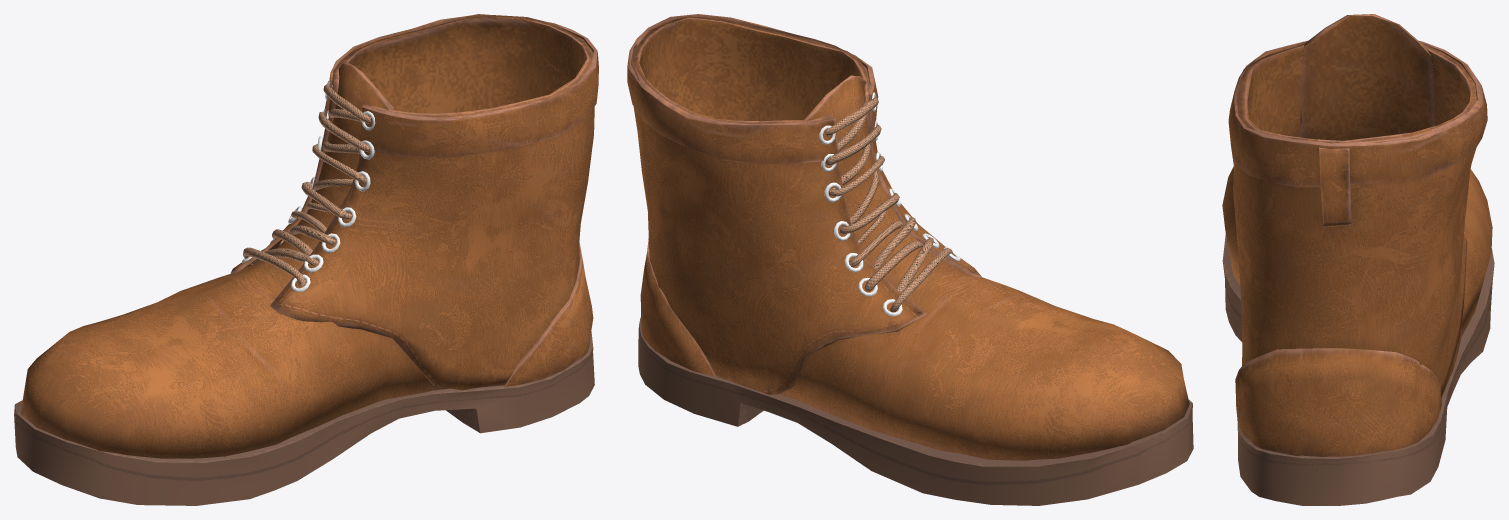
File: SM_Shoes_B2.fbx
3 views of the same model, side by side, from view 1: azimuth 30°, elevation 25°; view 2: azimuth 150°, elevation 25°; view 3: azimuth 270°, elevation 25° (orthographic). The views are drawn at different scales.
Visible parts, largest first — view 1: SM_Shoes_B2; view 2: SM_Shoes_B2; view 3: SM_Shoes_B2.
Boxes of the visible parts, <box> form: SM_Shoes_B2: <box>14,14,598,505</box>; SM_Shoes_B2: <box>627,14,1193,505</box>; SM_Shoes_B2: <box>1222,14,1494,505</box>.
Bounding box in the file's own units: 33.34 × 12.62 × 19.93.
Materials: 1 (1 with a texture image).
